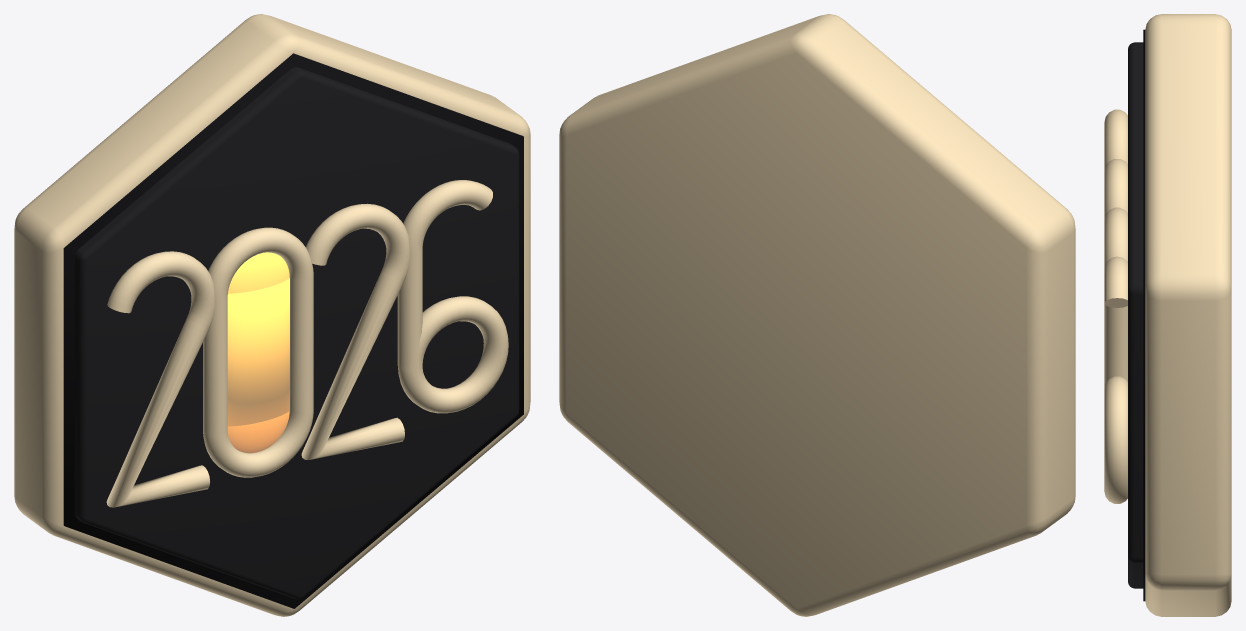
Rendered from year-2026.glb.
3 views of the same model, side by side, from view 1: azimuth 30°, elevation 25°; view 2: azimuth 150°, elevation 25°; view 3: azimuth 270°, elevation 25° (orthographic). The views are drawn at different scales.
Parts seen in each view (by area): view 1: panel, bezel, groove, zero, Cylinder, two, two.001, six_loop, six_stem; view 2: bezel; view 3: bezel, panel, six_loop, six_stem, groove, two.001, two, zero.
Part boxes in pixels (x1,y1,x2,y2): panel: (74, 67, 519, 599); bezel: (14, 14, 530, 616); groove: (63, 53, 523, 608); zero: (203, 227, 313, 477); Cylinder: (227, 252, 289, 453); two: (106, 251, 214, 507); two.001: (301, 203, 409, 459); six_loop: (398, 296, 508, 413); six_stem: (397, 180, 492, 370); bezel: (559, 14, 1075, 616); bezel: (1145, 14, 1231, 616); panel: (1128, 42, 1143, 588); six_loop: (1104, 376, 1127, 503); six_stem: (1104, 256, 1127, 386); groove: (1143, 29, 1145, 601); two.001: (1104, 207, 1127, 388); two: (1104, 109, 1127, 170); zero: (1104, 159, 1127, 219).
Bounding box in the file's own units: 1.07 × 1.22 × 0.236.
